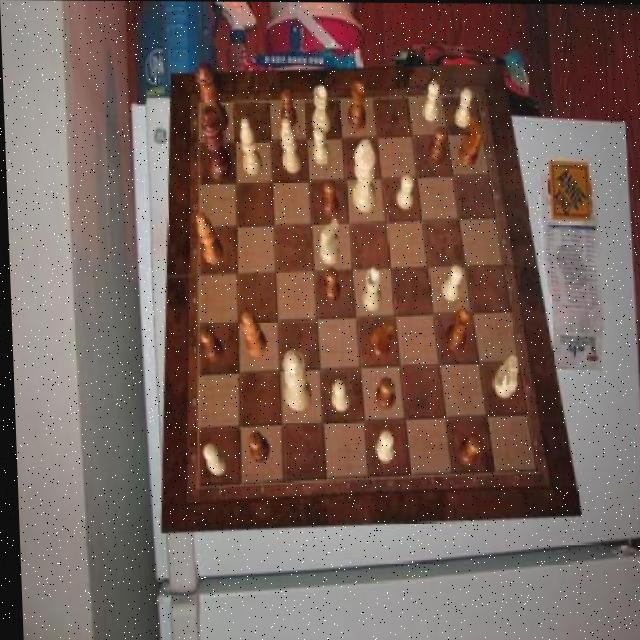bishop: (194, 212, 222, 264), (239, 311, 265, 356)
black-bishop: (200, 106, 231, 182)
black-king: (457, 115, 485, 166), (366, 319, 392, 359)
black-knight: (197, 327, 221, 361), (427, 126, 448, 164), (456, 433, 479, 466), (280, 88, 297, 128), (246, 430, 267, 461), (322, 266, 340, 302), (321, 180, 339, 216), (373, 376, 391, 410)
black-pawn: (195, 60, 228, 135)
black-queen: (441, 307, 470, 350), (347, 79, 366, 128)
black-rook: (239, 117, 262, 174), (280, 117, 302, 173)
white-bishop: (350, 137, 377, 212)
white-king: (490, 355, 517, 398), (317, 217, 339, 263)
white-knight: (438, 264, 462, 302), (421, 81, 441, 121), (200, 442, 224, 475), (453, 87, 472, 127), (394, 173, 413, 209), (372, 430, 393, 462), (312, 127, 329, 165), (330, 379, 348, 413)
white-pawn: (279, 349, 309, 411)
white-queen: (310, 87, 331, 134), (359, 267, 380, 311)
